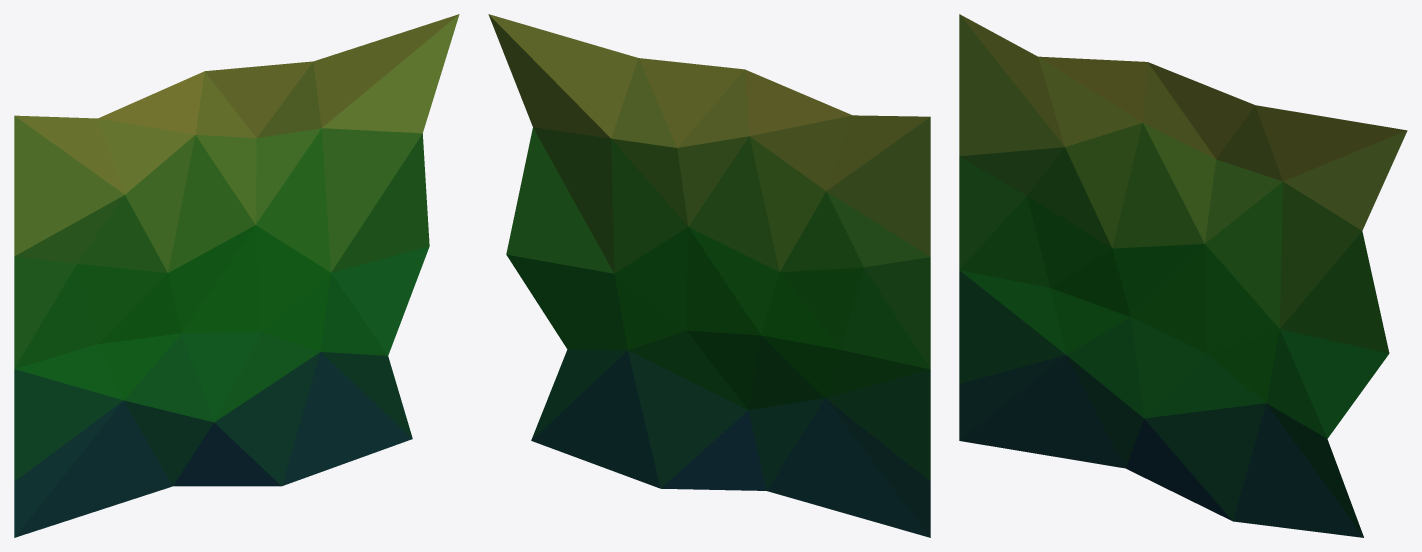
The model's file is Prop_FlagB.fbx.
3 views of the same model, side by side, from view 1: azimuth 30°, elevation 25°; view 2: azimuth 150°, elevation 25°; view 3: azimuth 330°, elevation 25° (orthographic).
Visible parts, largest first — view 1: Prop_FlagB; view 2: Prop_FlagB; view 3: Prop_FlagB.
Boxes of the visible parts, x1,y1,x2,y2 form: Prop_FlagB: [14, 14, 459, 537]; Prop_FlagB: [488, 14, 930, 537]; Prop_FlagB: [959, 14, 1407, 537].
Bounding box in the file's own units: 138 × 129 × 8.03.
